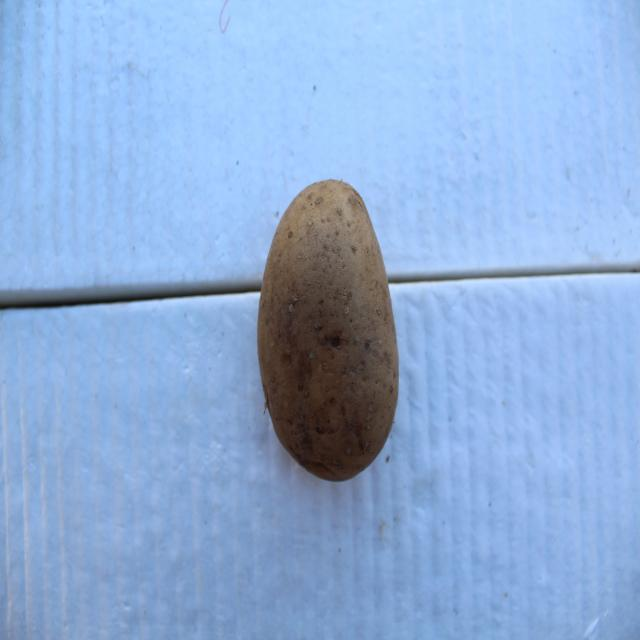potato: (257, 176, 401, 483)
